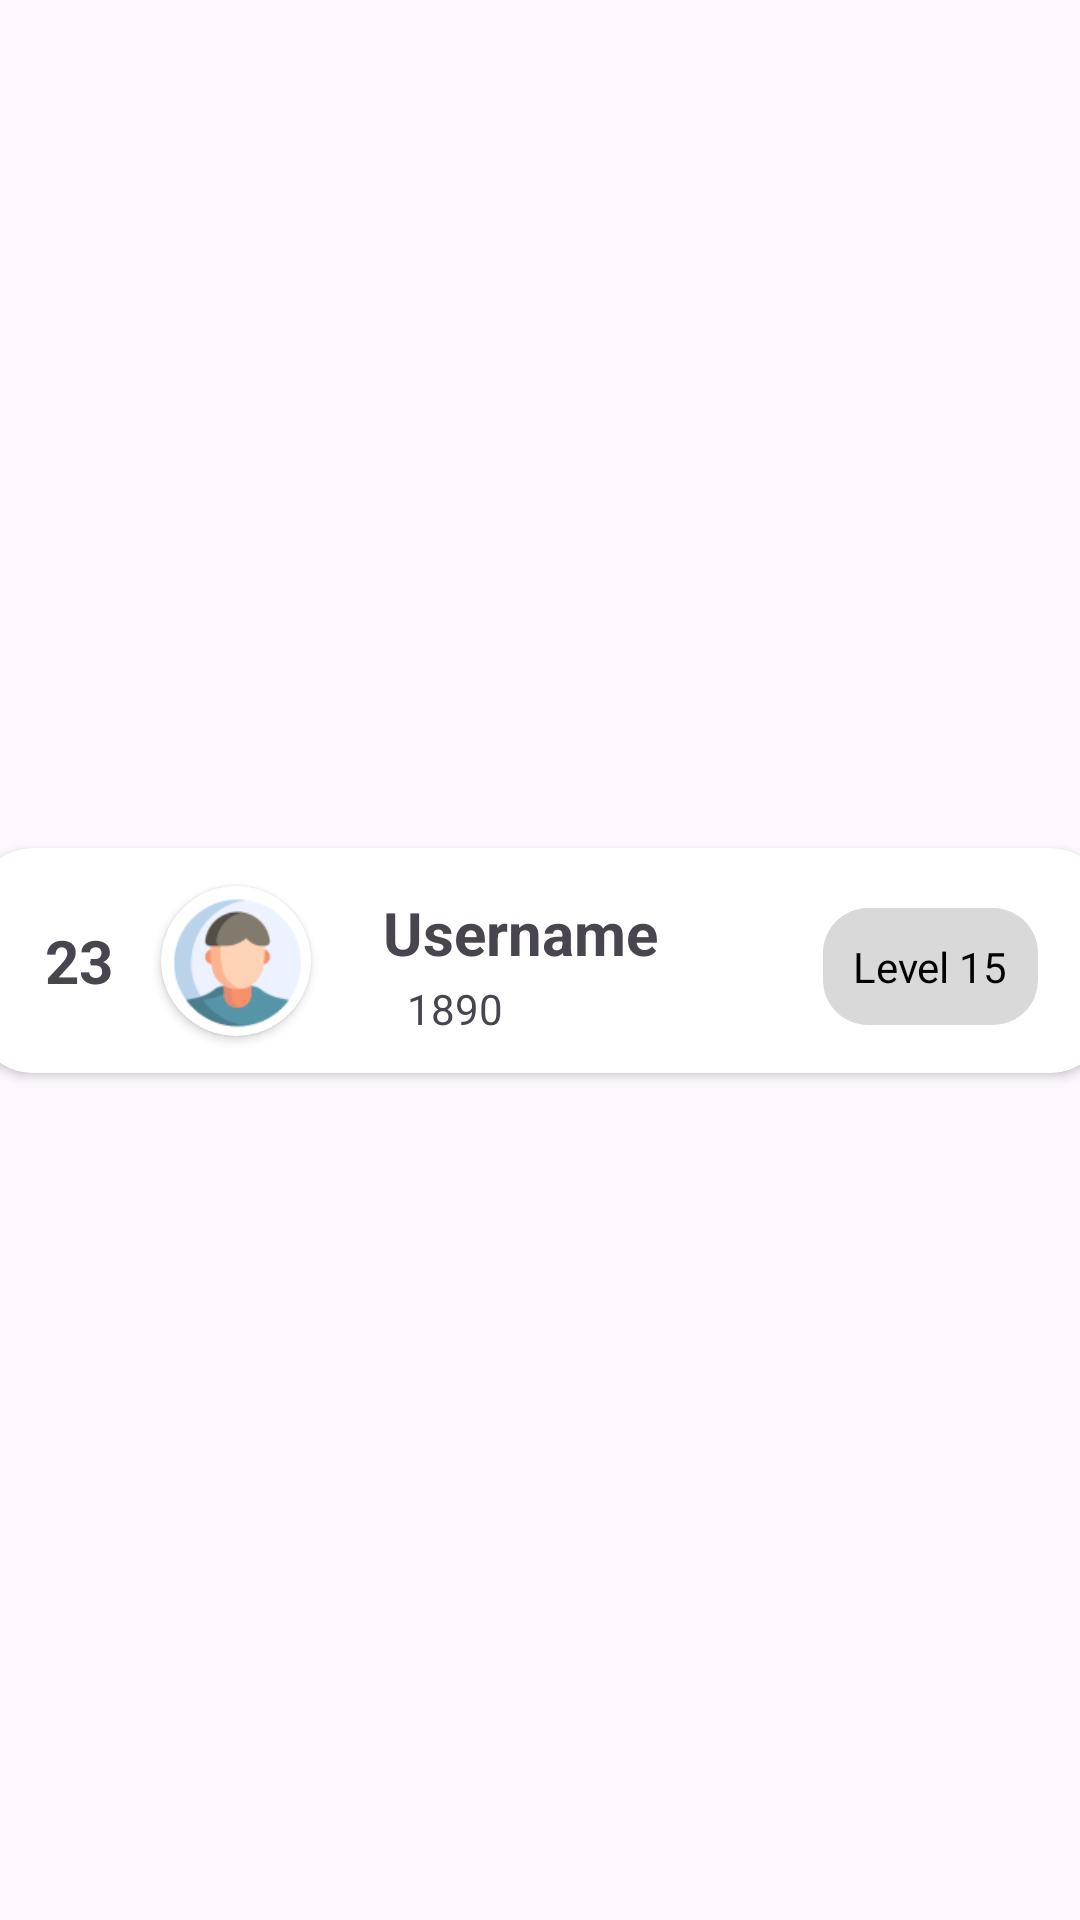

Icon click points for this 1080px×1920px phone screenshot, format (x=x, y=y):
profilepicimg: (x=234, y=967)
